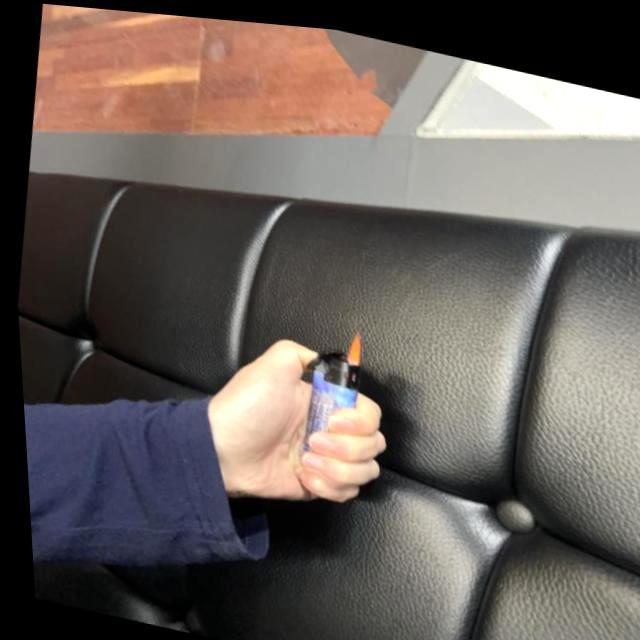fire: (339, 323, 359, 359)
